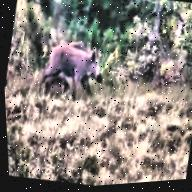boar: (34, 11, 119, 128)
